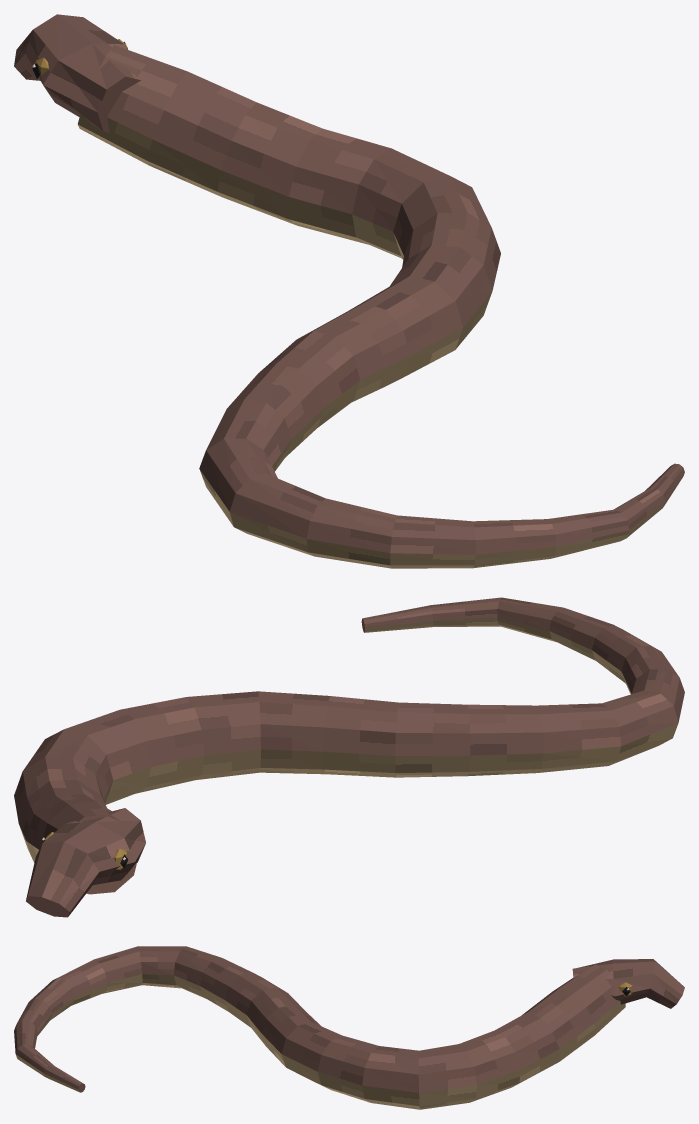
The model's file is mon_wormsnake.glb.
3 renders of one model, top to bottom at view 1: azimuth 30°, elevation 25°; view 2: azimuth 150°, elevation 25°; view 3: azimuth 270°, elevation 25°, orthographic. The views are drawn at different scales.
Parts seen in each view (by area): view 1: closed_body; view 2: closed_body; view 3: closed_body.
Part boxes in pixels (<box>): closed_body: <box>14,14,684,568</box>; closed_body: <box>14,597,684,917</box>; closed_body: <box>14,946,684,1109</box>.
Bounding box in the file's own units: 0.1132 × 0.0338 × 0.2263.
Materials: 1 (1 with a texture image).
